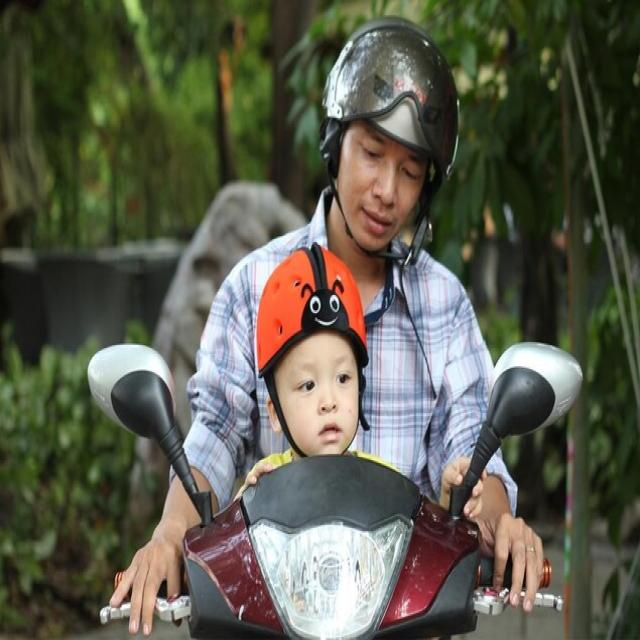1-2-helmet: (322, 15, 460, 177), (255, 244, 368, 379)
